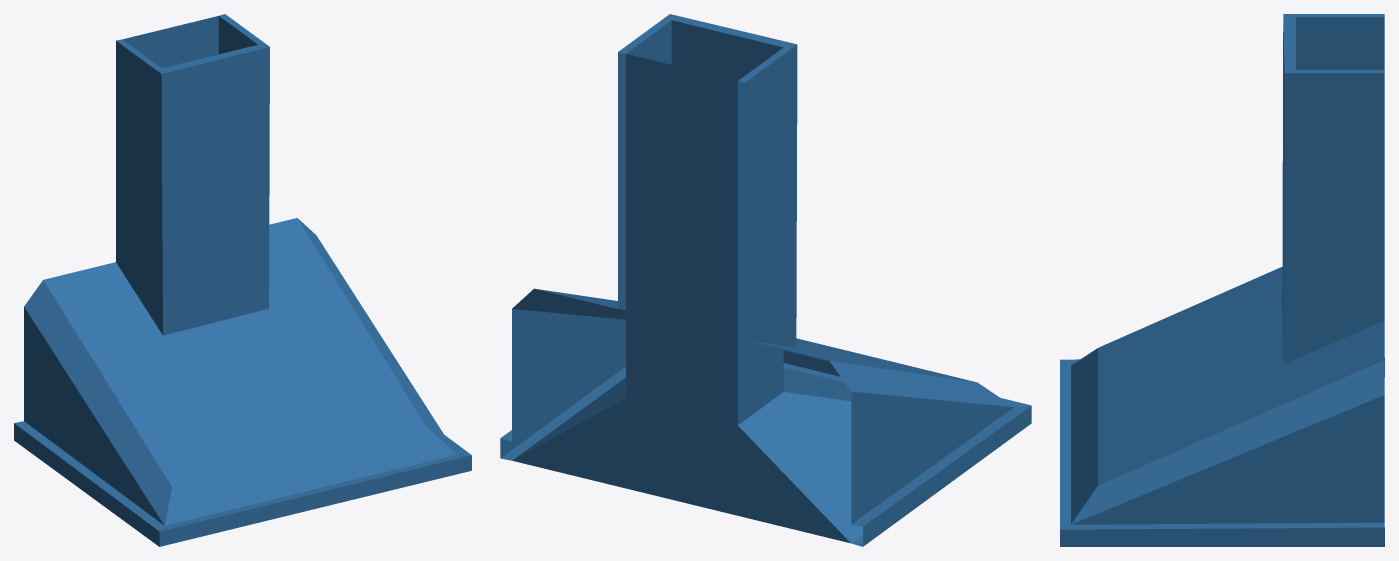
Rendered from extractor.fbx.
3 views of the same model, side by side, from view 1: azimuth 30°, elevation 25°; view 2: azimuth 150°, elevation 25°; view 3: azimuth 270°, elevation 25° (orthographic). The views are drawn at different scales.
Visible parts, largest first — view 1: extractor; view 2: extractor; view 3: extractor.
Boxes of the visible parts, x1,y1,x2,y2 form: extractor: (14, 14, 471, 546); extractor: (500, 14, 1031, 546); extractor: (1060, 14, 1384, 546).
Bounding box in the file's own units: 1.28 × 1.47 × 1.03.
